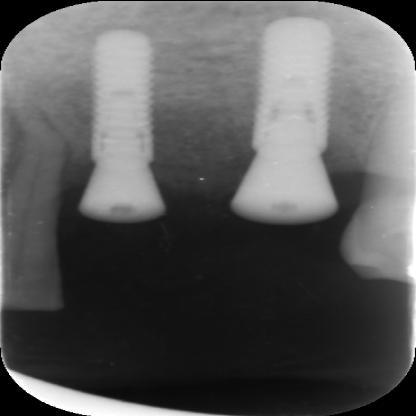ITI: (247, 14, 342, 156), (78, 23, 166, 164)
